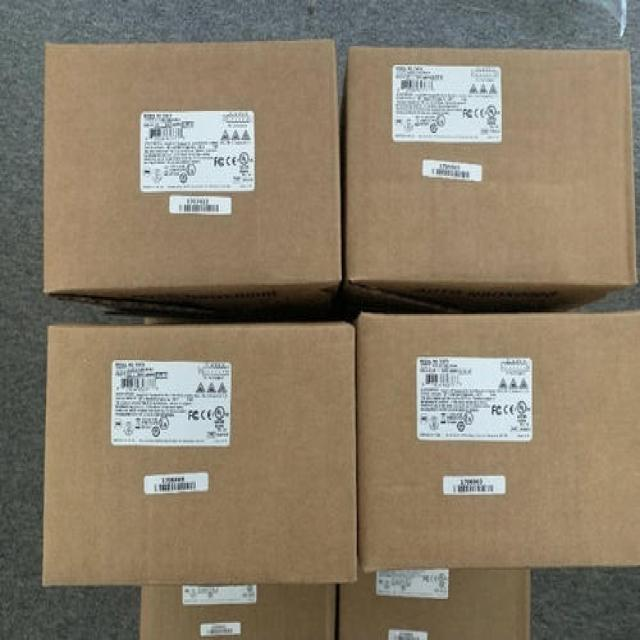box: (42, 324, 357, 589), (42, 38, 342, 314), (346, 48, 636, 305), (357, 312, 640, 573), (340, 570, 530, 640), (140, 584, 335, 640)
